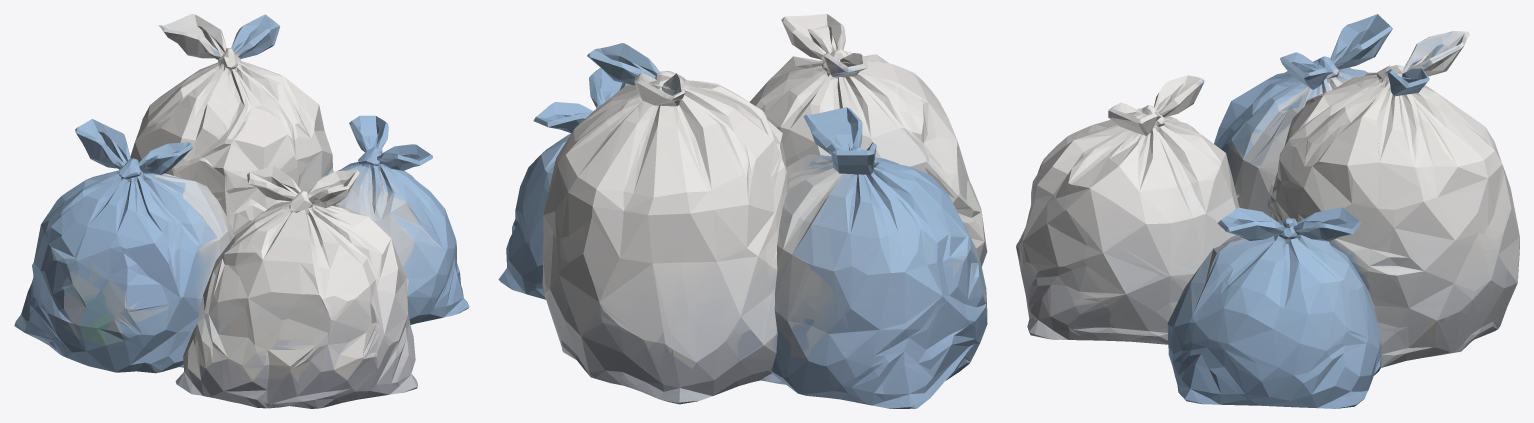
The model's file is trash_bag_pile.glb.
3 renders of one model, left to right at view 1: azimuth 30°, elevation 25°; view 2: azimuth 150°, elevation 25°; view 3: azimuth 270°, elevation 25°, orthographic. The views are drawn at different scales.
Parts seen in each view (by area): view 1: trash_bag_pile; view 2: trash_bag_pile; view 3: trash_bag_pile.
Part boxes in pixels (x1,y1,x2,y2): trash_bag_pile: (14,14,469,408); trash_bag_pile: (498,14,987,408); trash_bag_pile: (1016,14,1519,408).
Bounding box in the file's own units: 1 × 0.6 × 0.9986.
1 material, 1 textured.
